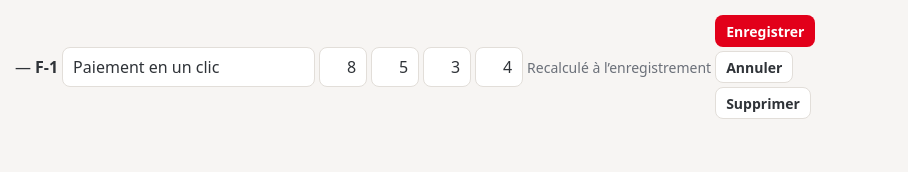
Scenario: FeatureEditorComponent › refuses a value outside the scale or not an integer, naming the criterion and the range
Replace the text in the field named "BV" with "11" at (343, 67), box [319,47,367,87]
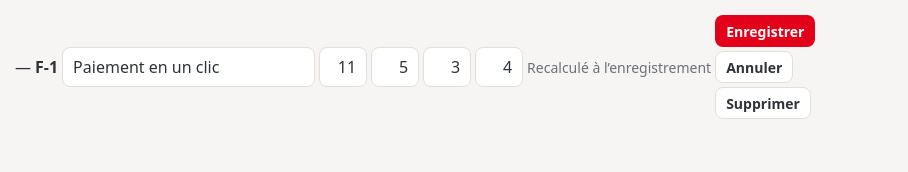
Replace the text in the field named "TC" with "2.5" at (395, 67), box [371,47,419,87]
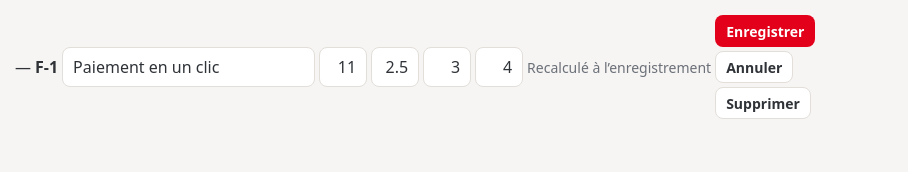
Click the button "Enregistrer" at (765, 31), box [715,15,816,47]
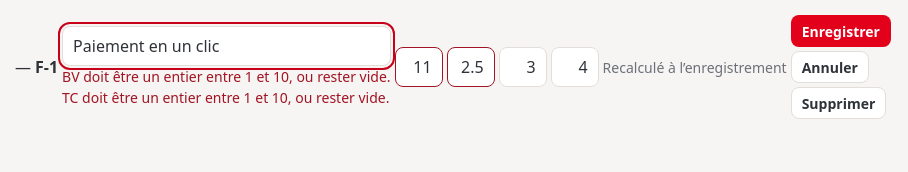
Expected: the message shows "BV doit être un entier entre 1 et 10, ou rester vide.", [62,67,391,86]
Expected: the message shows "TC doit être un entier entre 1 et 10", [62,88,390,107]
